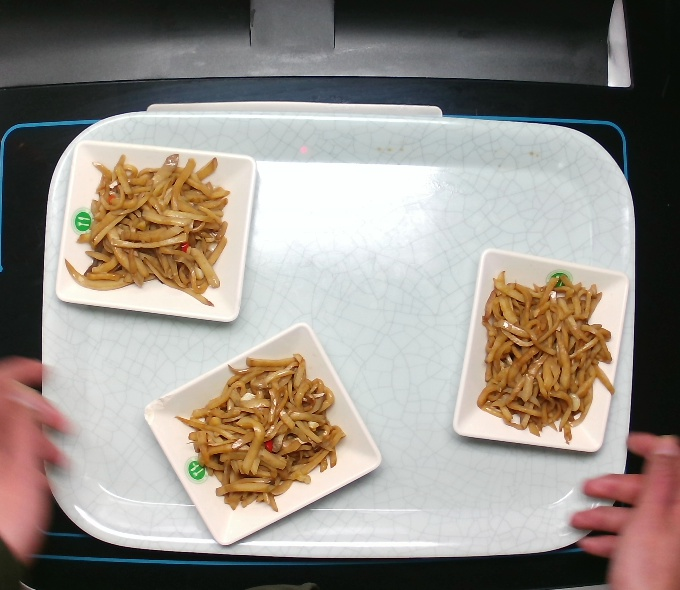wcq-LiangBanMoGu: (172, 351, 350, 517), (60, 150, 236, 311), (472, 265, 620, 448)
